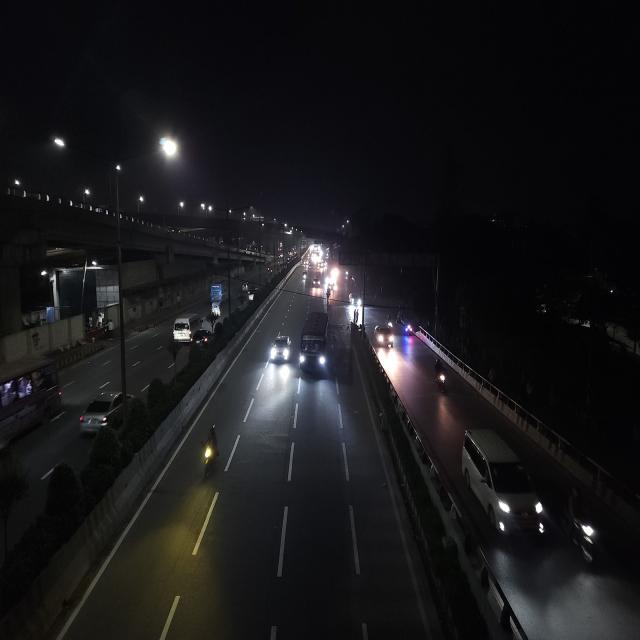bus: (0, 356, 64, 460), (298, 310, 332, 379), (210, 278, 227, 302)
car: (457, 424, 549, 545), (76, 386, 130, 440), (170, 312, 206, 347), (270, 332, 292, 366), (374, 323, 396, 350), (189, 327, 211, 350), (310, 274, 322, 292), (247, 288, 257, 303)
cng: (210, 302, 224, 316), (240, 278, 250, 293)
motorcycle: (196, 419, 224, 486), (432, 357, 451, 399), (404, 322, 414, 337), (267, 265, 273, 275)
pedestrian: (356, 308, 361, 327), (352, 307, 357, 325)
